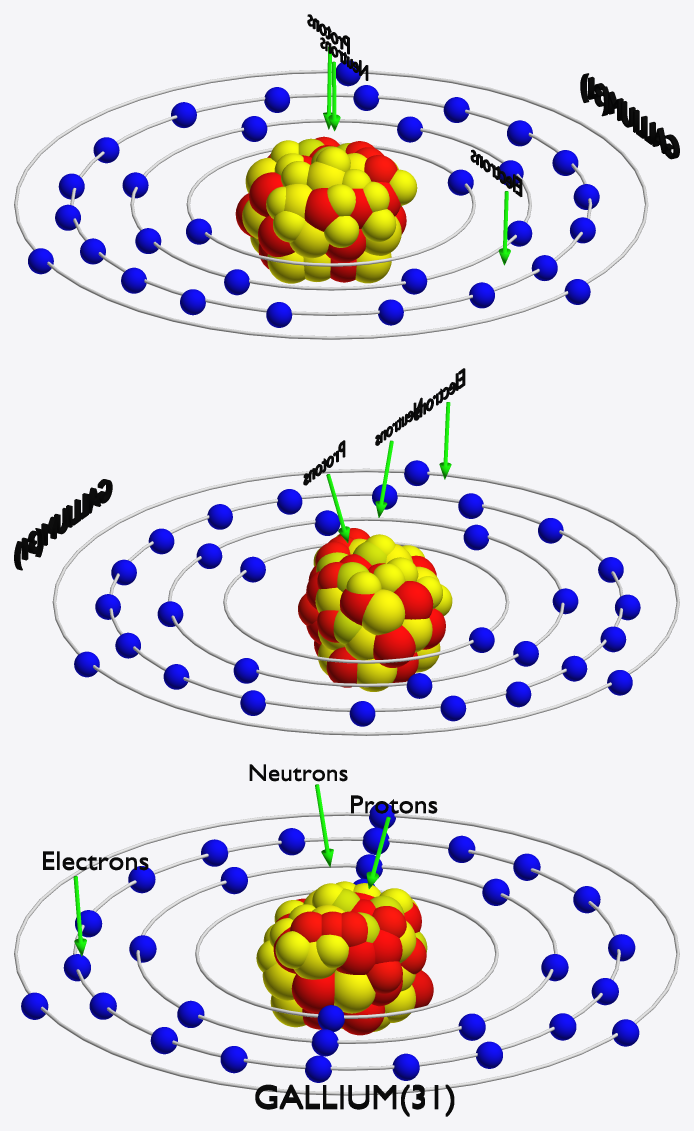
Rendered from Gallium Atomic Model.gltf.
The picture shows the model from 3 angles, top to bottom: view 1: azimuth 30°, elevation 25°; view 2: azimuth 150°, elevation 25°; view 3: azimuth 270°, elevation 25°; orthographic projection. The views are drawn at different scales.
Visible parts, largest first — view 1: Sphere.038, Torus.003, Torus.002, Torus.001, Text.003, Torus, Text, Sphere.031, Sphere.039, Sphere.043, Sphere.037, Sphere.042 (+26 smaller); view 2: Sphere.038, Torus.003, Torus.002, Torus.001, Text.003, Torus, Text; view 3: Sphere.038, Torus.003, Torus.002, Torus.001, Torus, Text.003, Text, Text.001, Text.002, Sphere.018, Sphere.025, Sphere.019 (+23 smaller).
Boxes of the visible parts, x1=… form: Sphere.038: x1=235, y1=136, x2=417, y2=283; Torus.003: x1=14, y1=69, x2=648, y2=339; Torus.002: x1=70, y1=93, x2=592, y2=315; Torus.001: x1=130, y1=119, x2=531, y2=290; Text.003: x1=580, y1=73, x2=679, y2=159; Torus: x1=186, y1=142, x2=475, y2=266; Text: x1=470, y1=149, x2=522, y2=196; Sphere.031: x1=378, y1=299, x2=403, y2=325; Sphere.039: x1=397, y1=116, x2=422, y2=142; Sphere.043: x1=224, y1=269, x2=249, y2=295; Sphere.037: x1=353, y1=85, x2=379, y2=110; Sphere.042: x1=180, y1=289, x2=205, y2=315; Sphere.038: x1=298, y1=528, x2=452, y2=691; Torus.003: x1=52, y1=468, x2=679, y2=735; Torus.002: x1=109, y1=492, x2=623, y2=711; Torus.001: x1=168, y1=517, x2=564, y2=687; Text.003: x1=14, y1=479, x2=112, y2=570; Torus: x1=223, y1=542, x2=509, y2=663; Text: x1=414, y1=368, x2=465, y2=420; Sphere.038: x1=256, y1=881, x2=433, y2=1035; Torus.003: x1=14, y1=812, x2=679, y2=1095; Torus.002: x1=73, y1=837, x2=620, y2=1070; Torus.001: x1=136, y1=863, x2=557, y2=1043; Torus: x1=195, y1=890, x2=498, y2=1018; Text.003: x1=255, y1=1084, x2=454, y2=1116; Text: x1=43, y1=851, x2=148, y2=870; Text.001: x1=249, y1=764, x2=347, y2=781; Text.002: x1=351, y1=795, x2=437, y2=813; Sphere.018: x1=311, y1=1029, x2=338, y2=1056; Sphere.025: x1=392, y1=1053, x2=419, y2=1080; Sphere.019: x1=305, y1=1055, x2=331, y2=1082.
Size of the model in its own units: 6.41 by 2.54 by 5.97.
